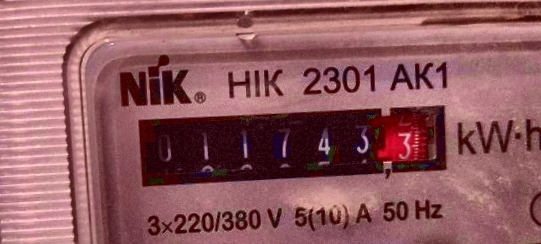0: (153, 128, 174, 165)
1: (236, 124, 253, 159), (199, 127, 211, 160)
3: (350, 120, 371, 156), (395, 129, 415, 163)
4: (313, 122, 332, 157)
7: (274, 124, 294, 159)
screen: (123, 87, 462, 202)
